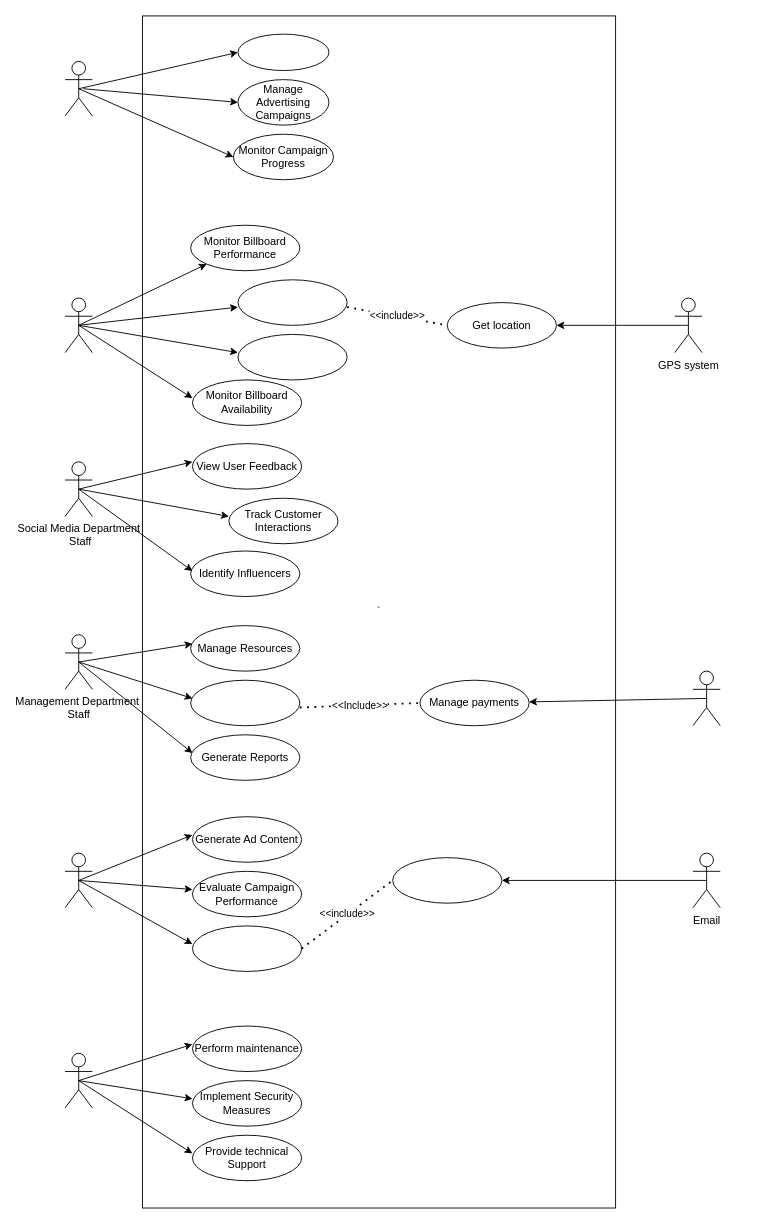
This 763x1224 diagram has some shape labels left out. The shapes that lost their labels are listed below. From the top down, each one's centre as x and y in pixels, then its label:
At [283,52]: "Manage Users".
At [78,88]: "Administrator".
At [292,302]: "View Billboard Locations".
At [78,325]: "Billboard Department Staff".
At [292,357]: "Analyze Maintenance Records".
At [245,702]: "Handle Billing and Invoicing".
At [706,698]: "Payment System".
At [78,880]: "Radio & Tv Department Staff".
At [447,880]: "Send Email".
At [247,948]: "Contact Radio and TV stations".
At [78,1080]: "IT Staff".
